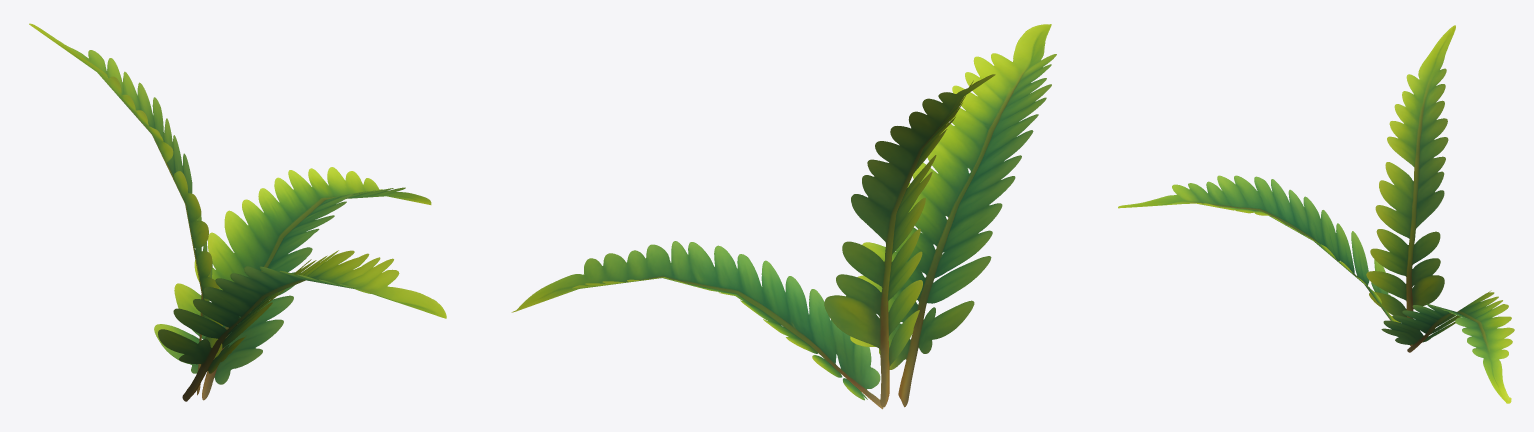
The picture shows the model from 3 angles, left to right: view 1: azimuth 30°, elevation 25°; view 2: azimuth 150°, elevation 25°; view 3: azimuth 270°, elevation 25°; orthographic projection. The views are drawn at different scales.
Parts seen in each view (by area): view 1: pl-fern-sword; view 2: pl-fern-sword; view 3: pl-fern-sword.
Boxes of the visible parts, x1=… form: pl-fern-sword: x1=29, y1=23, x2=446, y2=401; pl-fern-sword: x1=511, y1=24, x2=1056, y2=409; pl-fern-sword: x1=1118, y1=25, x2=1514, y2=403.
Size of the model in its own units: 1.76 by 1.44 by 1.9.
Materials: 1 (1 with a texture image).
